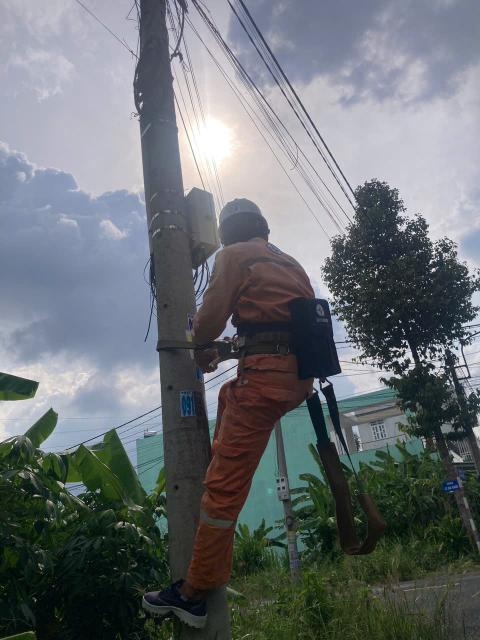gloves: (185, 317, 221, 372)
harness: (163, 328, 310, 364)
helmet: (212, 185, 269, 235)
shoes: (130, 575, 227, 634)
